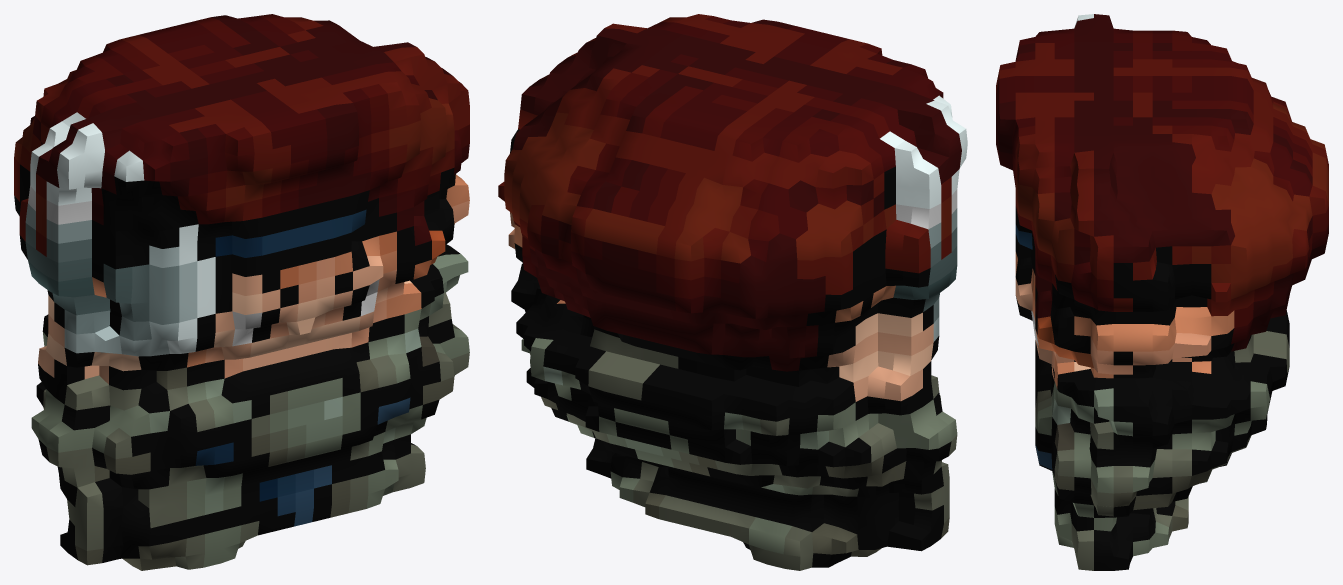
File: Icon_113_03.obj
The picture shows the model from 3 angles, left to right: view 1: azimuth 30°, elevation 25°; view 2: azimuth 150°, elevation 25°; view 3: azimuth 270°, elevation 25°; orthographic projection. The views are drawn at different scales.
Bounding box in the file's own units: 2.3 × 2.4 × 1.7.
